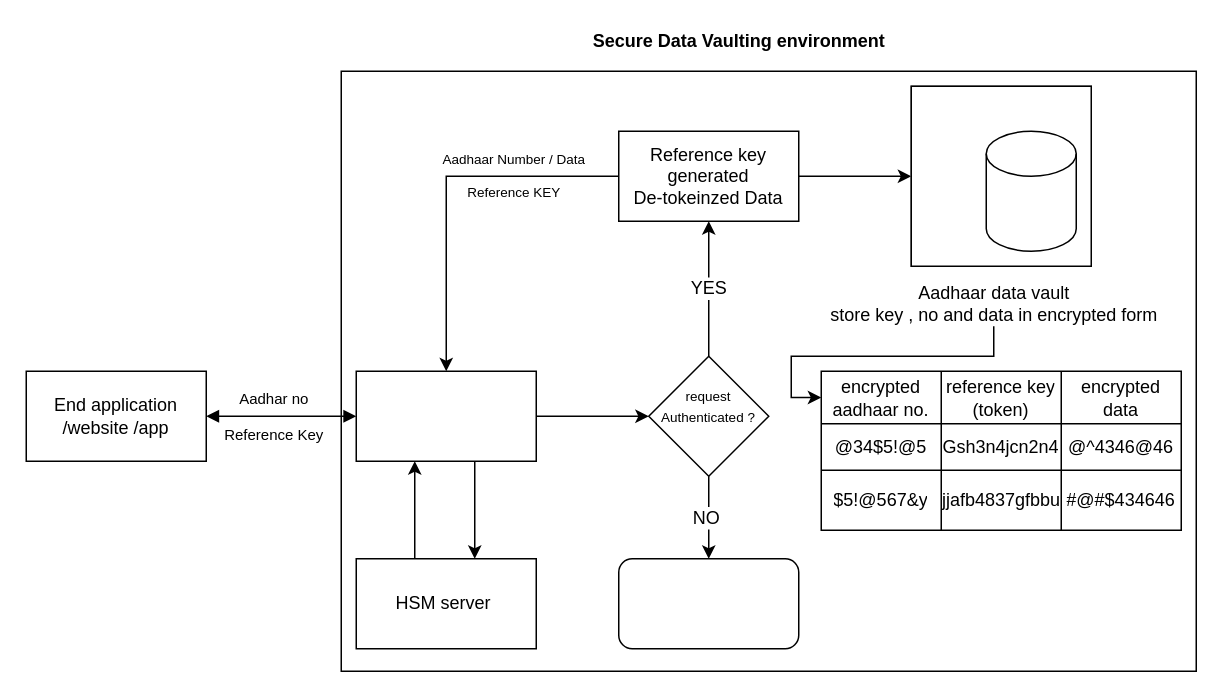
This 1223x698 diagram has some shape labels left out. The shapes that lost their labels are listed below. From the top down, each one's centre as x and y in pixels, then its label:
pixel 445 415: REST API / Soap Token Service
pixel 708 603: Process Fails. incident will be logged
